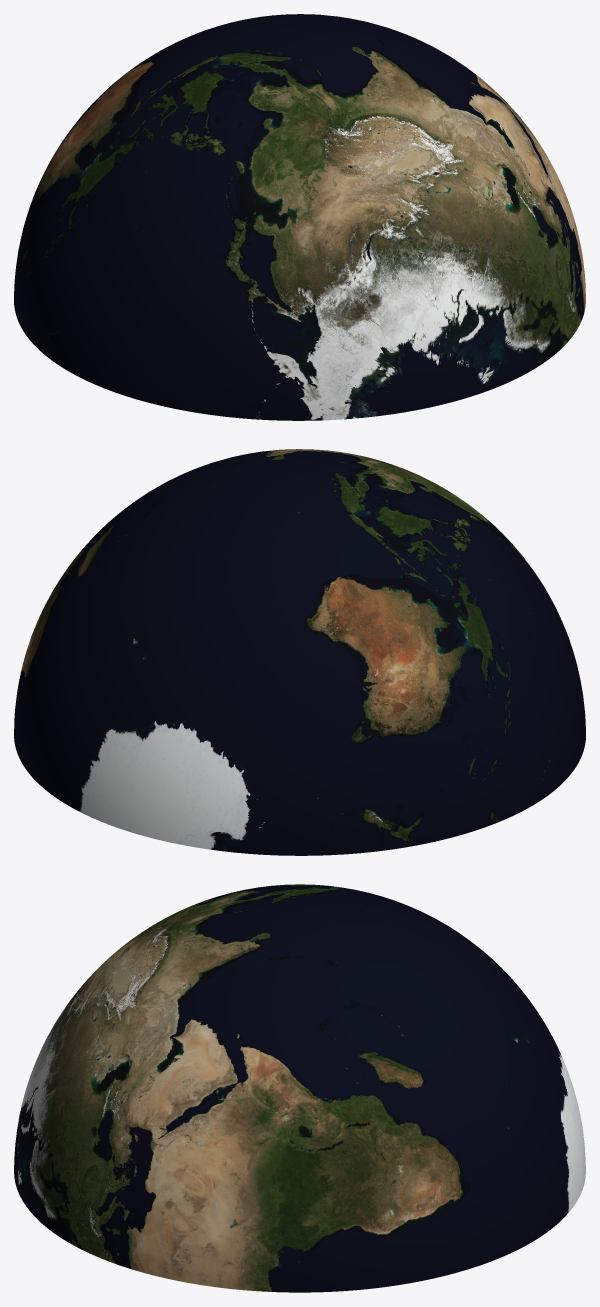
3 renders of one model, top to bottom at view 1: azimuth 30°, elevation 25°; view 2: azimuth 150°, elevation 25°; view 3: azimuth 270°, elevation 25°, orthographic.
Parts seen in each view (by area): view 1: DefaultName.008, DefaultName.011, DefaultName.005, DefaultName.002; view 2: DefaultName.005, DefaultName.002, DefaultName.008, DefaultName.011; view 3: DefaultName.002, DefaultName.011, DefaultName.008, DefaultName.005.
Part boxes in pixels (left/top/right/bottom): DefaultName.008: left=52, top=41, right=442, bottom=420; DefaultName.011: left=300, top=33, right=585, bottom=404; DefaultName.005: left=14, top=20, right=299, bottom=360; DefaultName.002: left=237, top=14, right=454, bottom=59; DefaultName.005: left=157, top=476, right=547, bottom=855; DefaultName.002: left=14, top=468, right=299, bottom=839; DefaultName.008: left=300, top=455, right=585, bottom=795; DefaultName.011: left=145, top=449, right=362, bottom=494; DefaultName.002: left=300, top=911, right=585, bottom=1292; DefaultName.011: left=14, top=911, right=299, bottom=1292; DefaultName.008: left=14, top=884, right=299, bottom=1152; DefaultName.005: left=300, top=884, right=584, bottom=1147.
Bounding box in the file's own units: 127563 × 63781 × 127135.
Materials: 4 (4 with a texture image).
